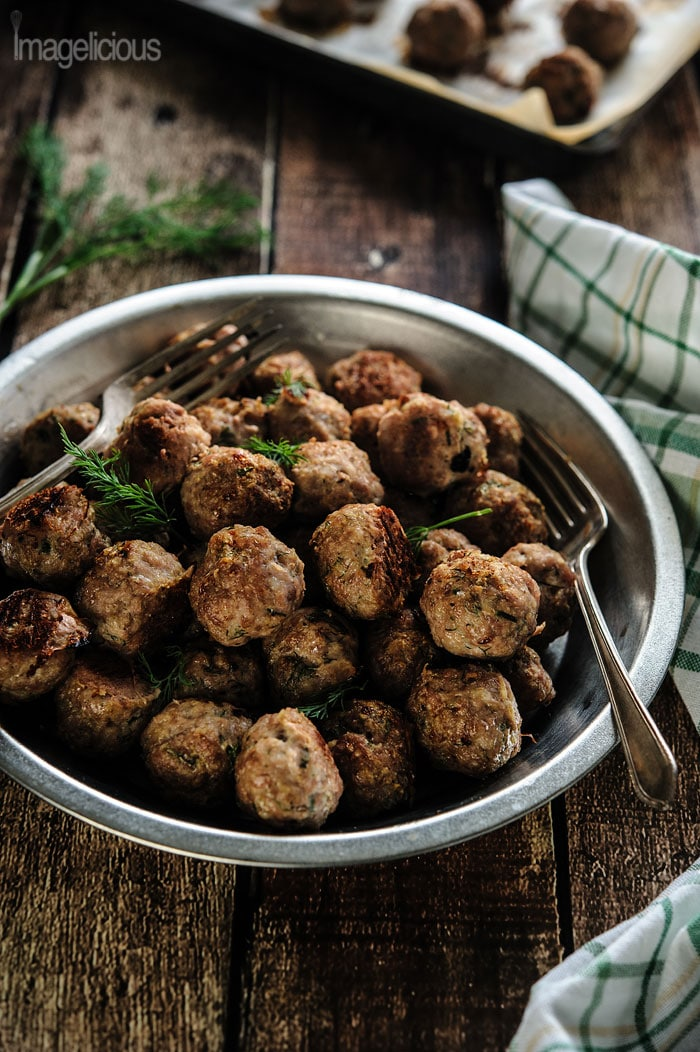meatballs: (137, 438, 515, 794)
